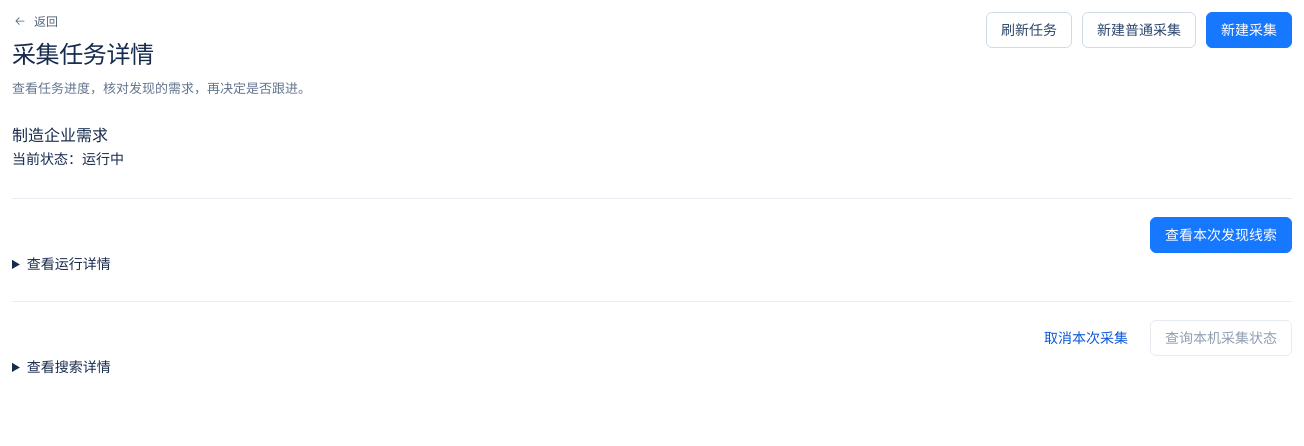
Scenario: rejects an automatic observation from another run without displaying its result
Expected: the text "当前状态：运行中" is shown, [12,150,124,167]
What coordinates should you click on to do the following:
click the button "刷新任务"
I would click on:
 (1029, 30)
Its box is [986,12,1072,48].
Wait 3000 ms
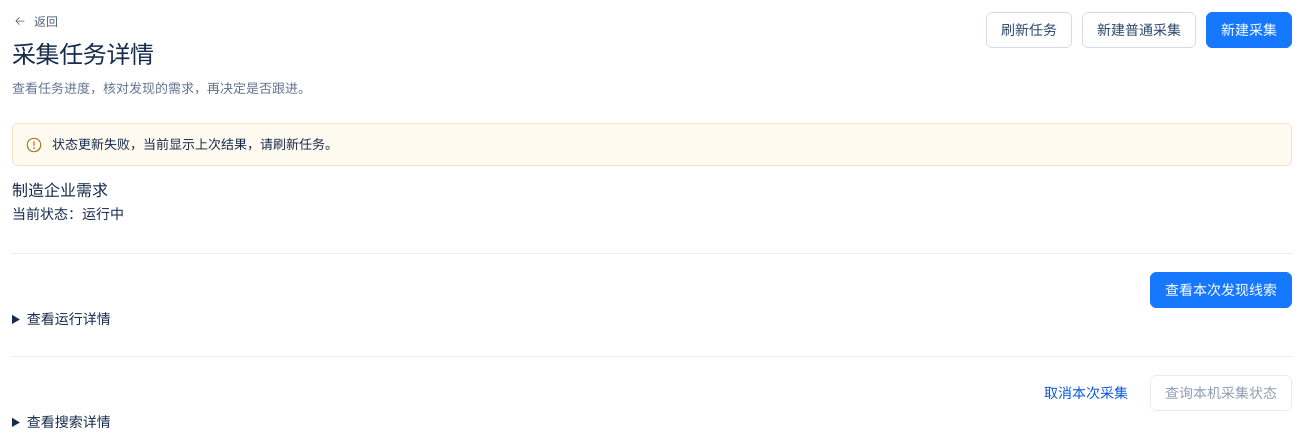
Expected: the text "当前状态：运行中" is shown, [12,205,124,222]
Result: the text "状态更新失败，当前显示上次结果，请刷新任务。" is shown at [52,136,338,152]
